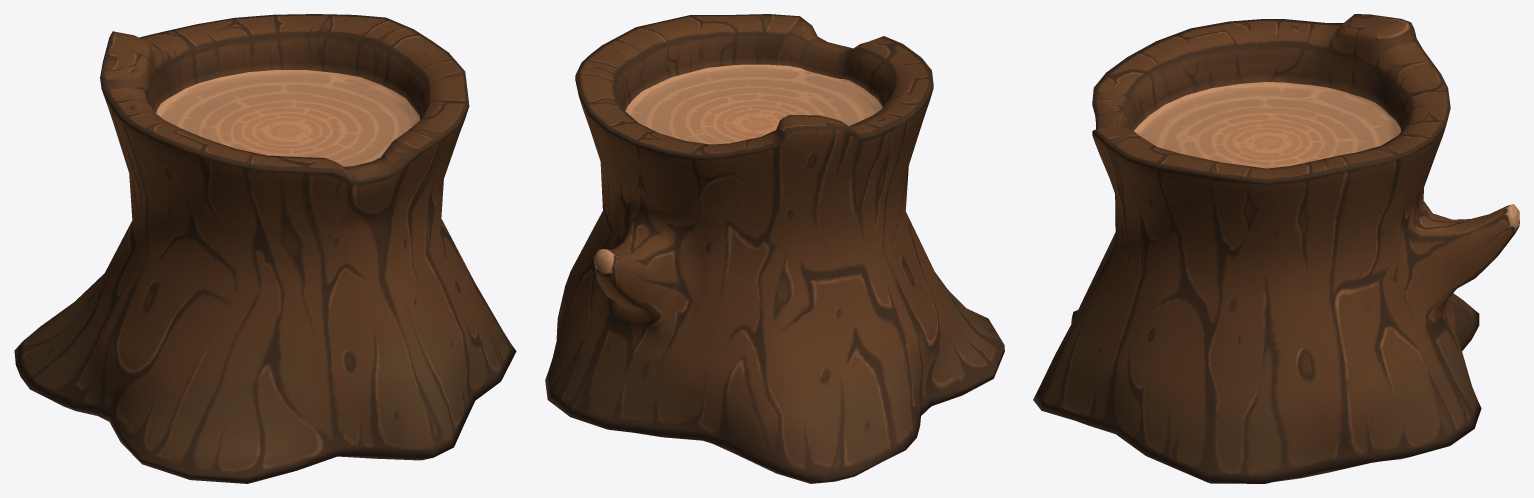
File: tree_stump.glb
3 views of the same model, side by side, from view 1: azimuth 30°, elevation 25°; view 2: azimuth 150°, elevation 25°; view 3: azimuth 270°, elevation 25° (orthographic). The views are drawn at different scales.
Visible parts, largest first — view 1: pCylinder1; view 2: pCylinder1; view 3: pCylinder1.
Boxes of the visible parts, x1,y1,x2,y2 form: pCylinder1: (14,14,516,483); pCylinder1: (545,14,1004,483); pCylinder1: (1033,14,1519,483).
Bounding box in the file's own units: 0.0499 × 0.0388 × 0.0523.
Materials: 1 (1 with a texture image).
